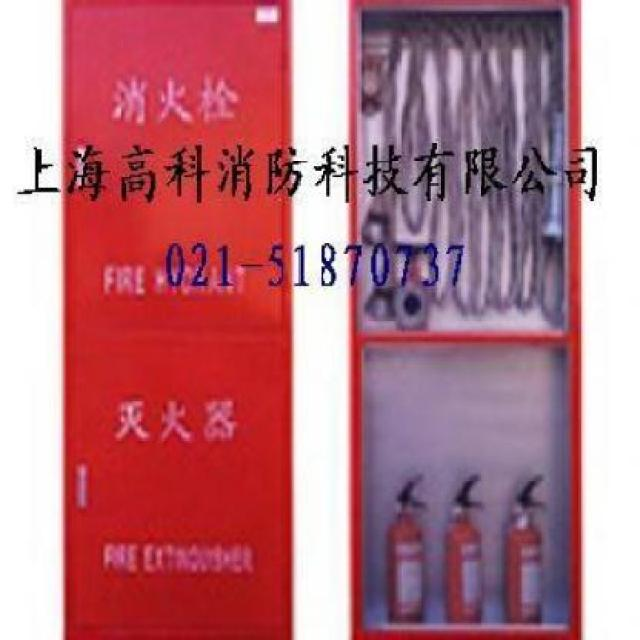firehydrant: (341, 1, 588, 640), (57, 1, 300, 638)
